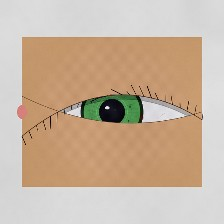hemorrhage_spot: (71, 95, 152, 160)
